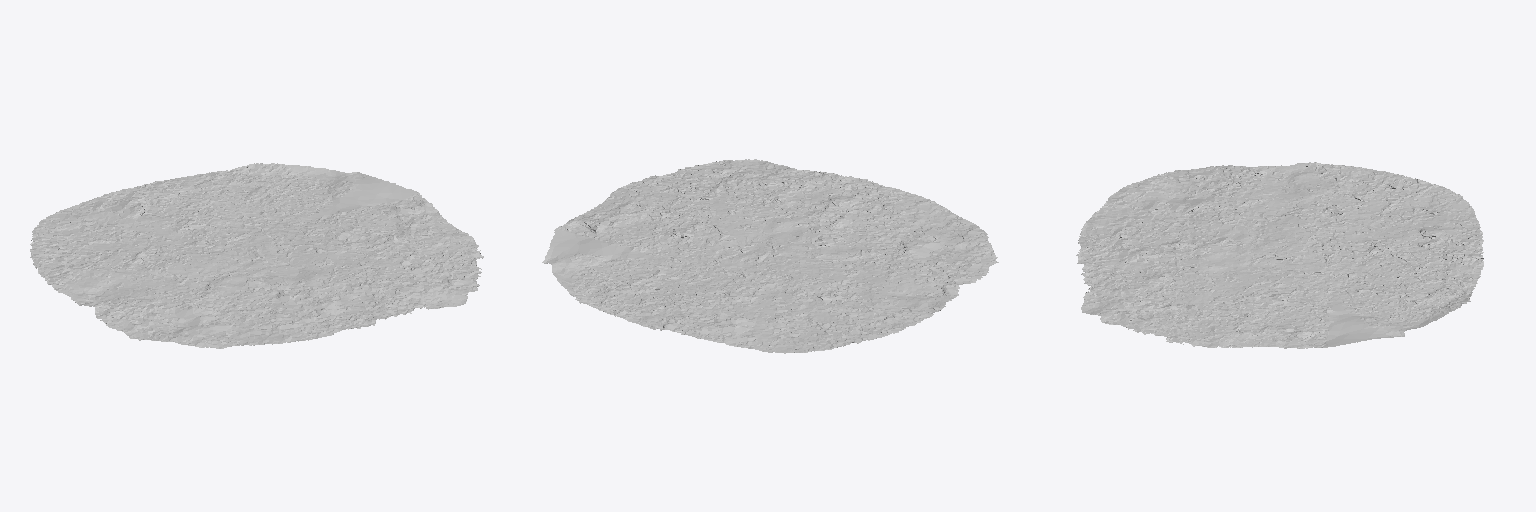
Rendered from terratopBaixRes.obj.
3 renders of one model, left to right at view 1: azimuth 30°, elevation 25°; view 2: azimuth 150°, elevation 25°; view 3: azimuth 270°, elevation 25°, orthographic.
Visible parts, largest first — view 1: msh_sandyGround; view 2: msh_sandyGround; view 3: msh_sandyGround.
Part boxes in pixels (bbox=[...]): msh_sandyGround: bbox=[30, 163, 483, 348]; msh_sandyGround: bbox=[542, 159, 998, 353]; msh_sandyGround: bbox=[1076, 162, 1483, 348].
Bounding box in the file's own units: 12.78 × 0.2422 × 12.07.